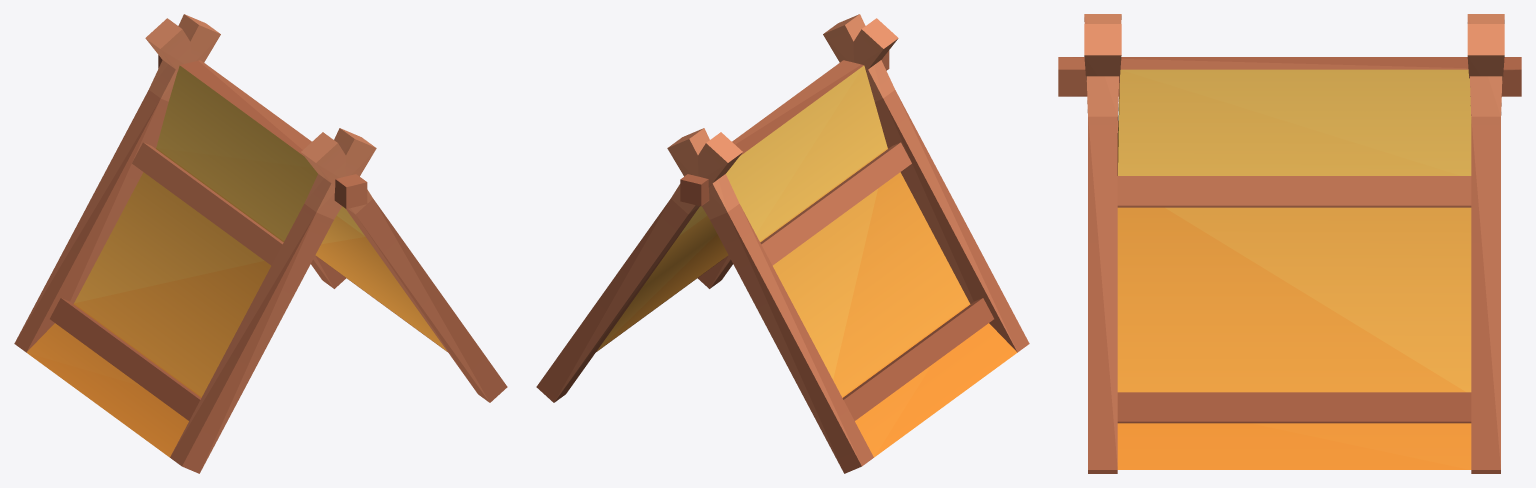
The model's file is tent-canvas.glb.
3 renders of one model, left to right at view 1: azimuth 30°, elevation 25°; view 2: azimuth 150°, elevation 25°; view 3: azimuth 270°, elevation 25°, orthographic. The views are drawn at different scales.
Visible parts, largest first — view 1: cffa93f, cc4714e, cd37d58, cffb449, cffc95b, cffc658, ccf7a55, cff9a33, cb86746, ce78f65, cff9d36, ce48c63 (+3 smaller); view 2: cffa93f, cc4714e, cd37d58, cffb449, cffc658, cffc95b, cff9a33, ccf7a55, cb86746, ce78f65, cff9d36, ce48c63 (+3 smaller); view 3: cffa93f, cffb449, cffc95b, cffc658, cff9a33, ccf7a55, cc4714e, cd37d58, cb86746, cff9d36, cc77450, cbc6a49 (+4 smaller).
Boxes of the visible parts, box(x1,y1,x2,y2) form: cffa93f: box(74, 237, 447, 396); cc4714e: box(14, 99, 507, 473); cd37d58: box(16, 90, 488, 472); cffb449: box(74, 148, 365, 303); cffc95b: box(156, 65, 312, 167); cffc658: box(157, 148, 364, 241); ccf7a55: box(132, 142, 367, 265); cff9a33: box(27, 353, 188, 457); cb86746: box(50, 259, 446, 420); ce78f65: box(146, 14, 376, 211); cff9d36: box(27, 303, 201, 397); ce48c63: box(149, 25, 375, 219); cffa93f: box(596, 148, 969, 396); cc4714e: box(536, 90, 1029, 473); cd37d58: box(555, 90, 1015, 472); cffb449: box(597, 148, 887, 379); cffc658: box(679, 65, 887, 241); cffc95b: box(679, 66, 863, 235); cff9a33: box(874, 304, 1017, 457); ccf7a55: box(760, 142, 911, 265); cb86746: box(597, 259, 993, 420); ce78f65: box(667, 14, 897, 212); cff9d36: box(842, 304, 969, 457); ce48c63: box(668, 15, 896, 219); cffa93f: box(1117, 139, 1465, 392); cffb449: box(1118, 139, 1471, 392); cffc95b: box(1121, 69, 1471, 175); cffc658: box(1118, 70, 1460, 175); cff9a33: box(1117, 423, 1469, 469); ccf7a55: box(1117, 121, 1471, 207); cc4714e: box(1088, 118, 1500, 469); cd37d58: box(1088, 116, 1500, 467); cb86746: box(1117, 392, 1471, 421); cff9d36: box(1251, 423, 1471, 469); cc77450: box(1058, 57, 1518, 96); cbc6a49: box(1060, 57, 1521, 96).
Size of the model in its own units: 0.5608 by 0.4914 by 0.561.
